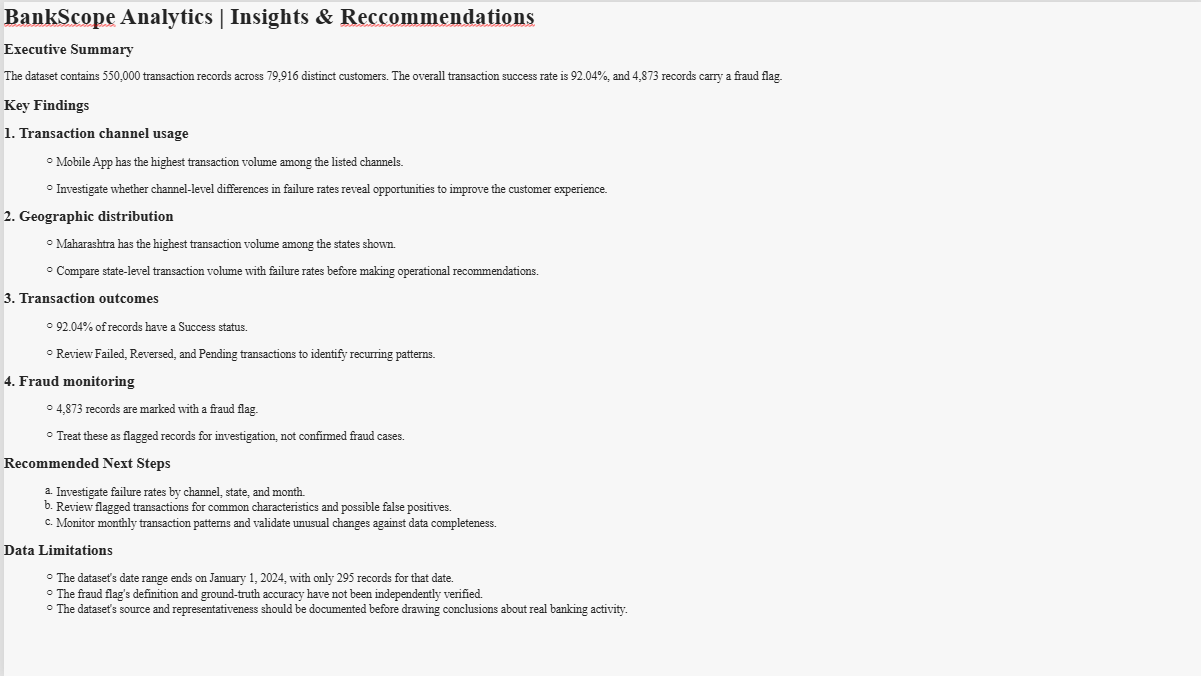

The page's visual inventory and layout, read from the dashboard file:
{"tool":"powerbi","page":{"name":"Insights & Recommendations","canvas":[1920,1080],"ordinal":1},"visuals":[{"type":"textbox","box":[0,0,1920,1080],"z":0}]}

Visuals, with their boxes in screenshot pixels (x1, y1, x2, y2), scaled from the page's 1920x1080 canvas onto the 1201x676 screenshot:
textbox: pyautogui.locateOnScreen(0, 0, 1200, 675)
